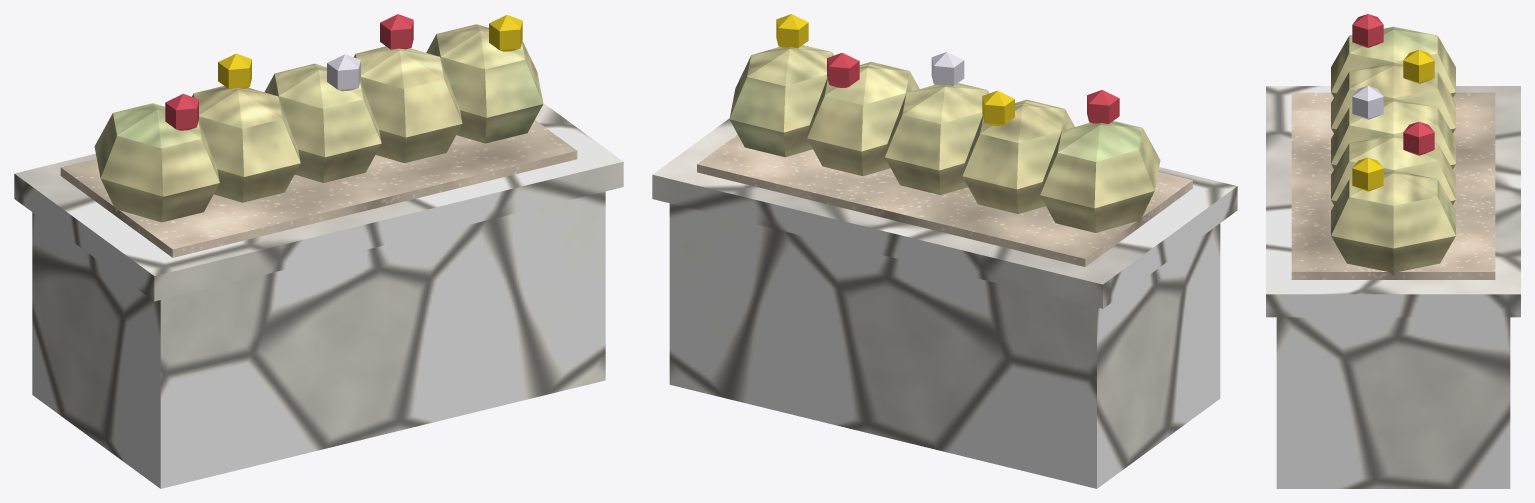
Rendered from fioriera.obj.
The picture shows the model from 3 angles, left to right: view 1: azimuth 30°, elevation 25°; view 2: azimuth 150°, elevation 25°; view 3: azimuth 270°, elevation 25°; orthographic projection. The views are drawn at different scales.
Parts seen in each view (by area): view 1: pietra_000, erba_003, pietra_001, terra_002, liscio_005, liscio_004, liscio_006; view 2: pietra_000, erba_003, pietra_001, terra_002, liscio_005, liscio_004, liscio_006; view 3: pietra_000, erba_003, pietra_001, terra_002, liscio_004, liscio_005, liscio_006.
Boxes of the visible parts, box(x1,y1,x2,y2) form: pietra_000: box(32, 191, 605, 488); erba_003: box(94, 24, 543, 222); pietra_001: box(14, 103, 623, 301); terra_002: box(60, 120, 577, 257); liscio_005: box(218, 15, 522, 89); liscio_004: box(165, 14, 413, 130); liscio_006: box(327, 54, 360, 91); pietra_000: box(669, 203, 1220, 488); erba_003: box(729, 45, 1160, 232); pietra_001: box(652, 118, 1237, 308); terra_002: box(697, 134, 1192, 266); liscio_005: box(776, 14, 1014, 125); liscio_004: box(827, 52, 1119, 123); liscio_006: box(931, 52, 964, 86); pietra_000: box(1276, 317, 1510, 488); erba_003: box(1331, 26, 1455, 275); pietra_001: box(1266, 86, 1520, 317); terra_002: box(1291, 92, 1495, 279); liscio_004: box(1352, 14, 1434, 155); liscio_005: box(1352, 50, 1434, 191); liscio_006: box(1352, 86, 1383, 119).
Bounding box in the file's own units: 1.16 × 0.805 × 0.6.
7 materials, 4 textured.
